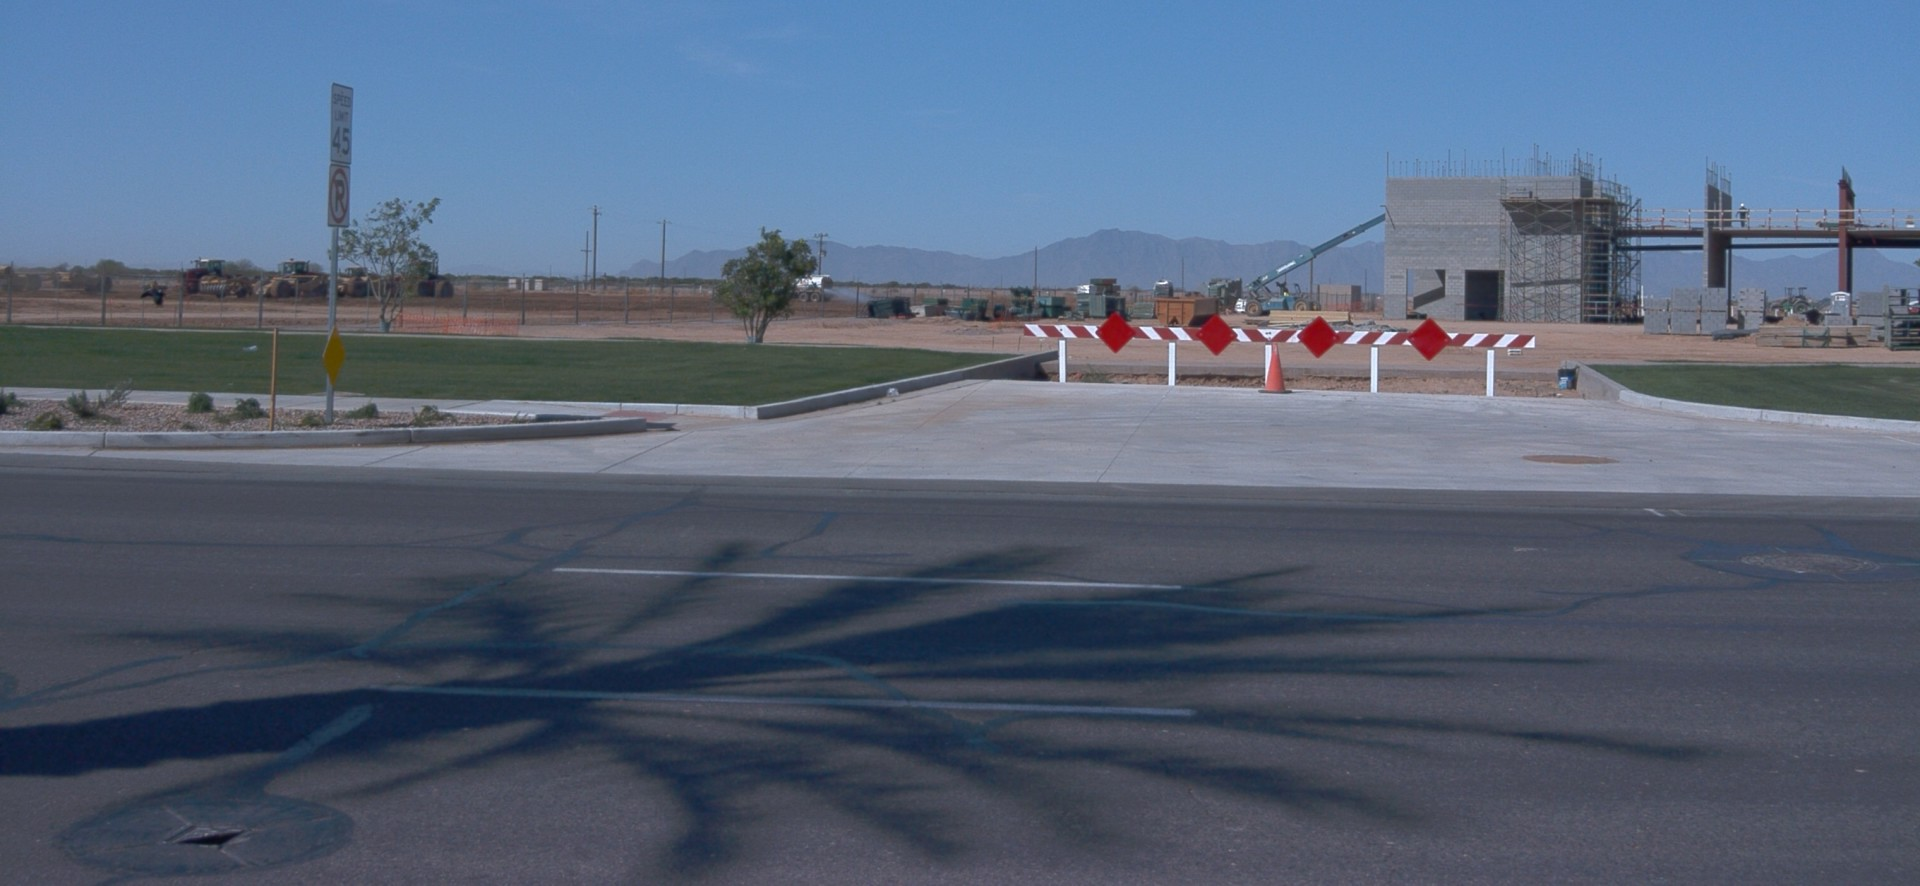TYPE_VEHICLE: (1237, 207, 1385, 312), (1237, 207, 1385, 312), (1237, 207, 1385, 312), (1237, 207, 1385, 312), (158, 253, 229, 299), (158, 253, 229, 299), (158, 253, 229, 299), (158, 253, 229, 299), (387, 259, 451, 301), (387, 259, 451, 301), (387, 259, 451, 301), (387, 259, 451, 301), (253, 257, 310, 303), (253, 257, 310, 303), (253, 257, 310, 303), (253, 257, 310, 303), (200, 269, 260, 301), (200, 269, 260, 301), (200, 269, 260, 301), (200, 269, 260, 301), (773, 273, 834, 303), (773, 273, 834, 303), (773, 273, 834, 303), (773, 273, 834, 303), (256, 278, 320, 301), (256, 278, 320, 301), (256, 278, 320, 301), (256, 278, 320, 301), (1767, 285, 1812, 316), (1767, 285, 1812, 316), (1767, 285, 1812, 316), (1767, 285, 1812, 316)
